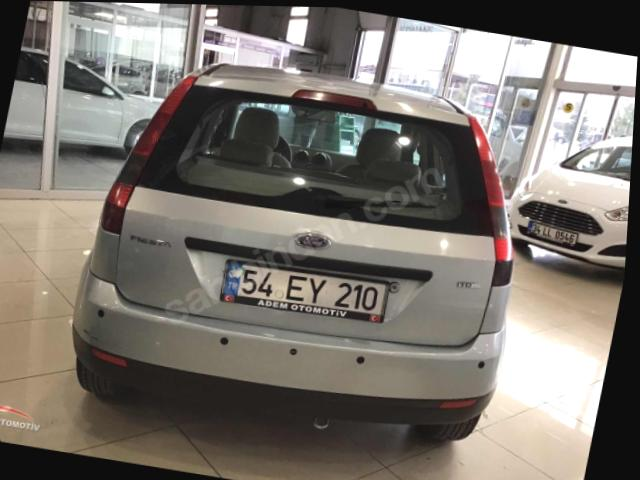plaka: (220, 260, 401, 323)
